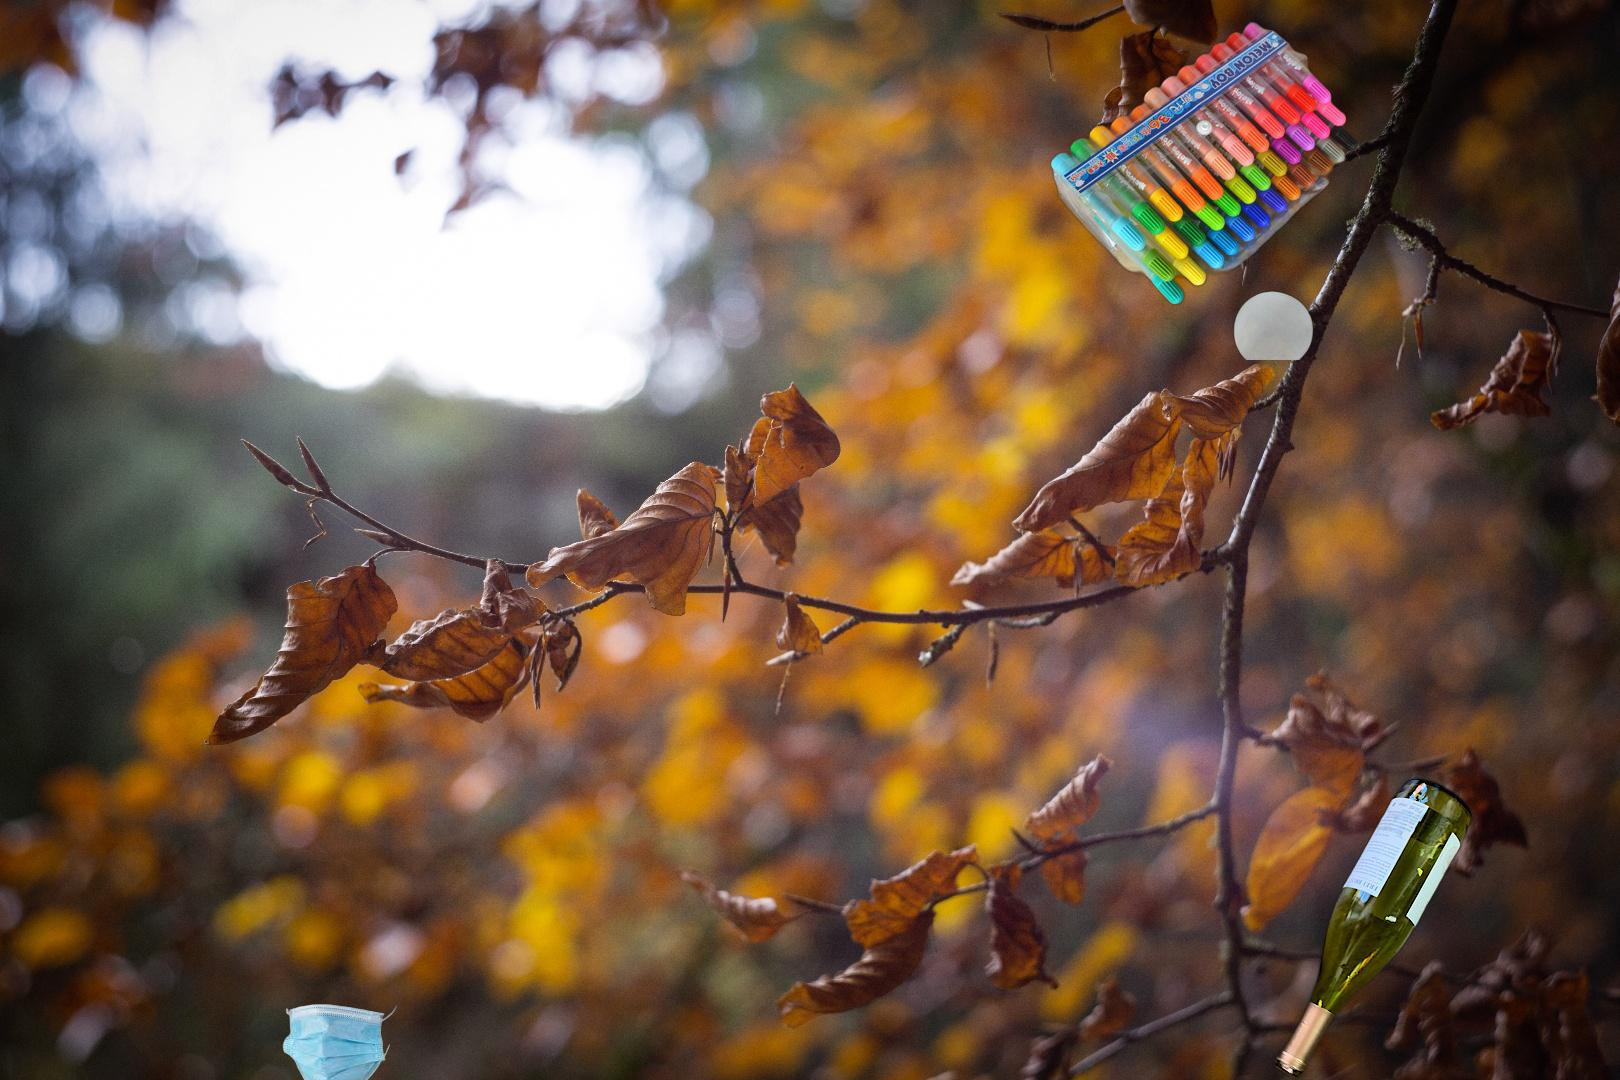glass: (1270, 771, 1477, 1080)
penholder: (1047, 19, 1363, 360)
trash: (229, 1000, 440, 1080)
